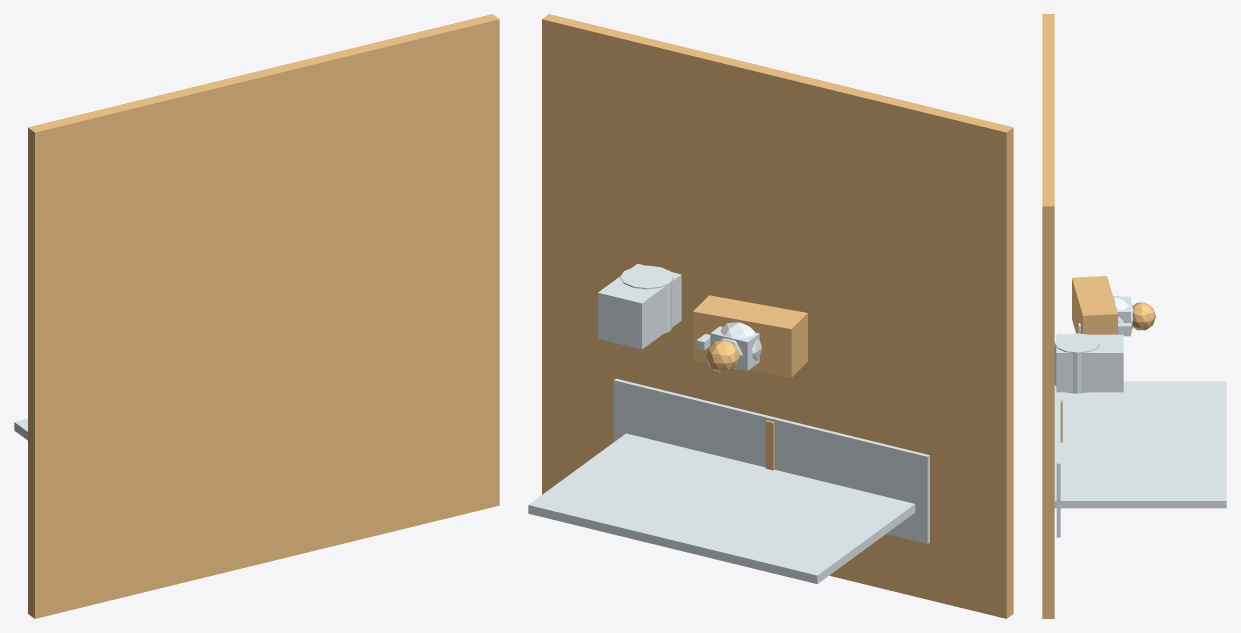
Rendered from billiards-master-kit.glb.
The picture shows the model from 3 angles, left to right: view 1: azimuth 30°, elevation 25°; view 2: azimuth 150°, elevation 25°; view 3: azimuth 270°, elevation 25°; orthographic projection. The views are drawn at different scales.
Visible parts, largest first — view 1: ENVIRONMENT_GROUND; view 2: ENVIRONMENT_GROUND, ENVIRONMENT_GATE, PROFILE_ENVIRONMENT_DETAIL, PLAYER_BODY, PROFILE_OBSTACLE_DETAIL, OBSTACLE, PROFILE_PLAYER_HEAD, PROFILE_PLAYER_DETAIL, PLAYER_CORE; view 3: ENVIRONMENT_GATE, ENVIRONMENT_GROUND, PROFILE_OBSTACLE_DETAIL, PLAYER_BODY, OBSTACLE, PROFILE_ENVIRONMENT_DETAIL, PROFILE_PLAYER_HEAD.
Part boxes in pixels (x1,y1,x2,y2): ENVIRONMENT_GROUND: [28, 14, 499, 618]; ENVIRONMENT_GROUND: [542, 14, 1013, 618]; ENVIRONMENT_GATE: [528, 433, 915, 584]; PROFILE_ENVIRONMENT_DETAIL: [613, 378, 929, 543]; PLAYER_BODY: [692, 295, 807, 377]; PROFILE_OBSTACLE_DETAIL: [598, 263, 681, 349]; OBSTACLE: [620, 265, 673, 333]; PROFILE_PLAYER_HEAD: [706, 340, 739, 373]; PROFILE_PLAYER_DETAIL: [710, 326, 759, 370]; PLAYER_CORE: [720, 322, 761, 369]; ENVIRONMENT_GATE: [1054, 381, 1226, 508]; ENVIRONMENT_GROUND: [1042, 14, 1054, 618]; PROFILE_OBSTACLE_DETAIL: [1056, 334, 1123, 392]; PLAYER_BODY: [1072, 276, 1117, 334]; OBSTACLE: [1054, 333, 1099, 393]; PROFILE_ENVIRONMENT_DETAIL: [1056, 333, 1060, 537]; PROFILE_PLAYER_HEAD: [1132, 302, 1155, 330].
Size of what is drawn, in the model's own units: 9 by 9 by 3.64.
